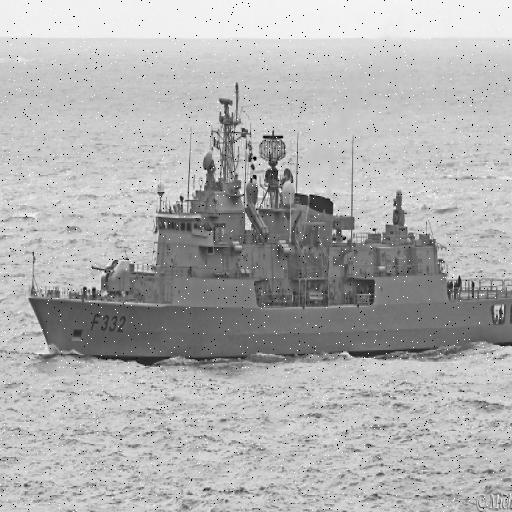Fragata: (26, 91, 512, 365)
